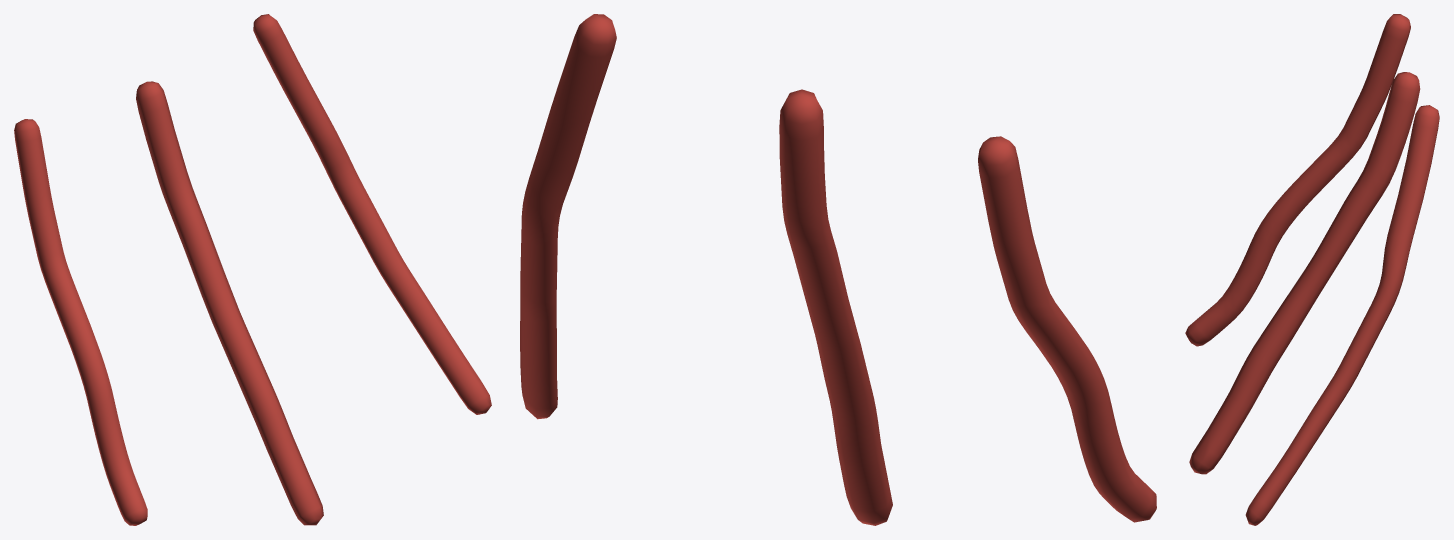
Rendered from musculos-synovial-sheaths-of-digits-of-hand-l.glb.
3 renders of one model, left to right at view 1: azimuth 30°, elevation 25°; view 2: azimuth 150°, elevation 25°; view 3: azimuth 270°, elevation 25°, orthographic. The views are drawn at different scales.
Visible parts, largest first — view 1: Synovial sheaths of digits of hand.l; view 2: Synovial sheaths of digits of hand.l; view 3: Synovial sheaths of digits of hand.l.
Boxes of the visible parts, x1,y1,x2,y2 form: Synovial sheaths of digits of hand.l: (14, 14, 491, 525); Synovial sheaths of digits of hand.l: (520, 14, 1156, 525); Synovial sheaths of digits of hand.l: (1185, 14, 1439, 525).
Bounding box in the file's own units: 0.0599 × 0.0581 × 0.0334.
